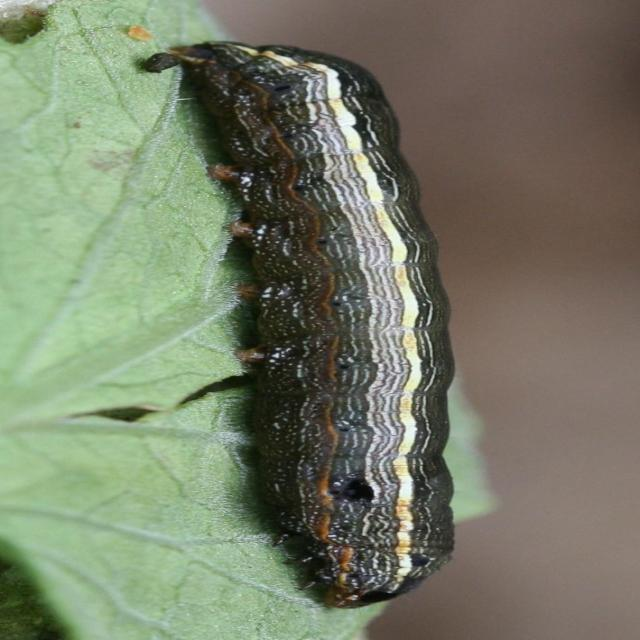army worm: (177, 38, 460, 620)
